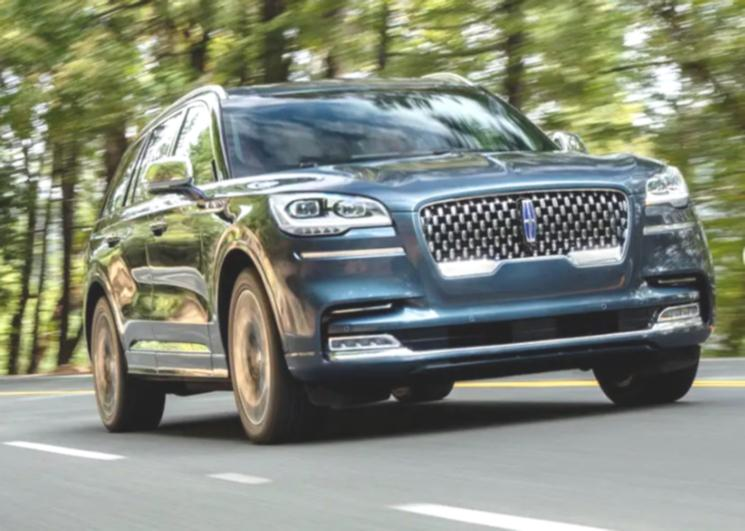lincoln: (509, 189, 548, 256)
